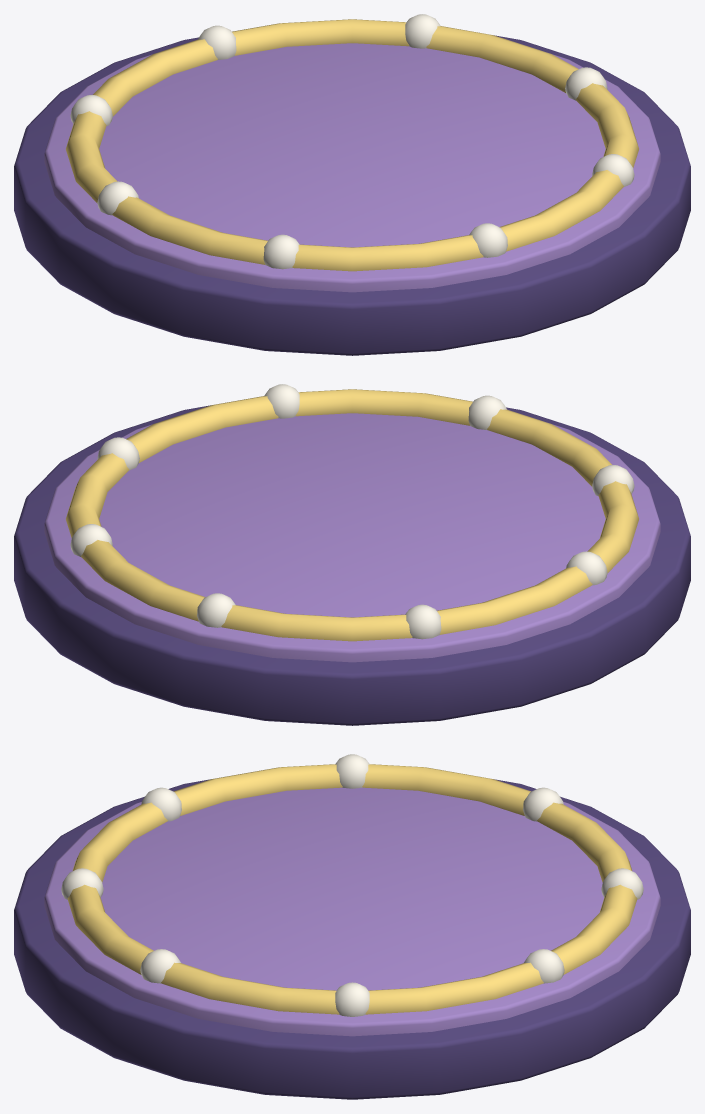
The model's file is treasure_dais.glb.
The picture shows the model from 3 angles, top to bottom: view 1: azimuth 30°, elevation 25°; view 2: azimuth 150°, elevation 25°; view 3: azimuth 270°, elevation 25°; orthographic projection.
Visible parts, largest first — view 1: Dais, DaisInk, PearlBorder, BorderPearl_5, BorderPearl_6, BorderPearl_1, BorderPearl_2, BorderPearl_4, BorderPearl_0, BorderPearl_7, BorderPearl_3; view 2: Dais, DaisInk, PearlBorder, BorderPearl_3, BorderPearl_2, BorderPearl_7, BorderPearl_6, BorderPearl_4, BorderPearl_0, BorderPearl_1, BorderPearl_5; view 3: Dais, DaisInk, PearlBorder, BorderPearl_0, BorderPearl_4, BorderPearl_1, BorderPearl_7, BorderPearl_3, BorderPearl_5, BorderPearl_2, BorderPearl_6.
Part boxes in pixels (<box>): Dais: <box>44,40,660,292</box>; DaisInk: <box>14,35,690,355</box>; PearlBorder: <box>66,19,638,271</box>; BorderPearl_5: <box>263,234,299,269</box>; BorderPearl_6: <box>469,223,507,257</box>; BorderPearl_1: <box>405,14,440,48</box>; BorderPearl_2: <box>198,25,236,59</box>; BorderPearl_4: <box>97,181,138,215</box>; BorderPearl_0: <box>565,67,607,100</box>; BorderPearl_7: <box>592,154,634,187</box>; BorderPearl_3: <box>70,95,112,126</box>; Dais: <box>44,410,660,662</box>; DaisInk: <box>14,405,690,725</box>; PearlBorder: <box>66,389,638,641</box>; BorderPearl_3: <box>405,604,441,639</box>; BorderPearl_2: <box>197,593,235,627</box>; BorderPearl_7: <box>264,384,299,418</box>; BorderPearl_6: <box>468,395,506,429</box>; BorderPearl_4: <box>566,551,607,585</box>; BorderPearl_0: <box>97,437,139,470</box>; BorderPearl_1: <box>70,524,112,557</box>; BorderPearl_5: <box>592,465,634,496</box>; Dais: <box>44,783,660,1036</box>; DaisInk: <box>14,779,690,1099</box>; PearlBorder: <box>67,764,637,1014</box>; BorderPearl_0: <box>335,982,369,1016</box>; BorderPearl_4: <box>335,754,369,788</box>; BorderPearl_1: <box>524,949,564,983</box>; BorderPearl_7: <box>140,949,180,983</box>; BorderPearl_3: <box>523,787,563,821</box>; BorderPearl_5: <box>141,787,181,821</box>; BorderPearl_2: <box>601,868,643,899</box>; BorderPearl_6: <box>61,868,103,899</box>.
Bounding box in the file's own units: 8.9 × 1.28 × 8.9.
